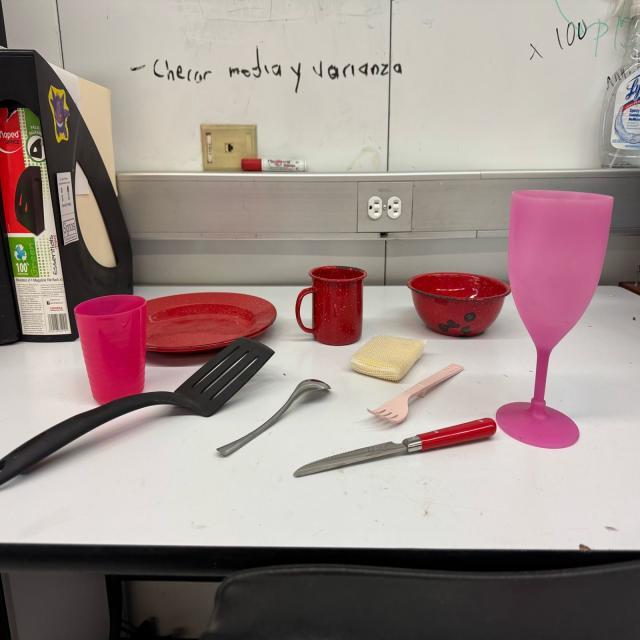cup: (296, 265, 364, 346)
fork: (367, 361, 464, 426)
glass: (73, 294, 148, 402)
knife: (292, 417, 499, 477)
plate: (142, 291, 279, 353)
spatula: (1, 334, 275, 484)
sponge: (351, 334, 426, 381)
spoon: (212, 376, 330, 458)
tazon: (407, 271, 512, 337)
wineglass: (494, 192, 617, 453)
